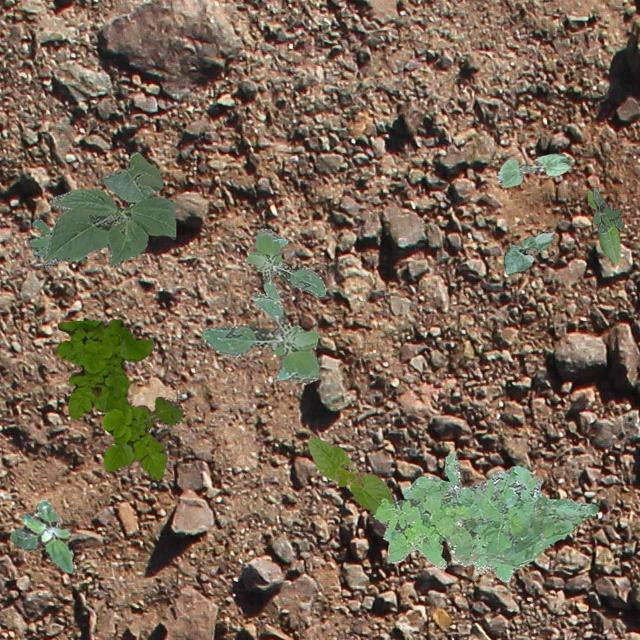crop: (42, 150, 174, 266), (306, 436, 392, 514), (496, 152, 570, 186), (586, 190, 620, 262), (502, 231, 552, 273)
weed: (372, 451, 598, 582), (56, 318, 182, 478), (200, 291, 318, 384), (246, 228, 326, 304), (10, 498, 74, 572), (28, 218, 86, 260), (592, 185, 622, 232)
